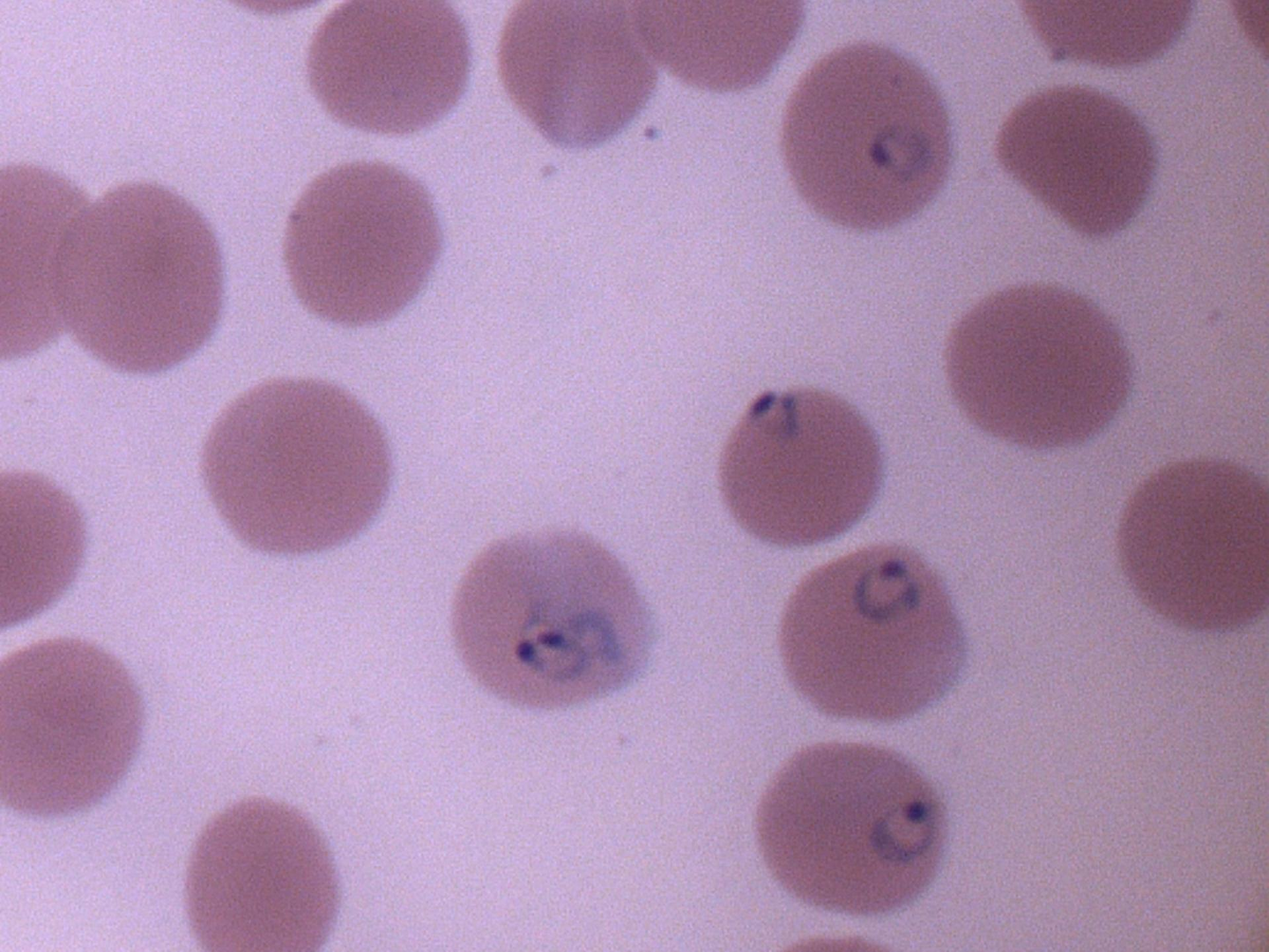Infected: (454, 523, 661, 720), (756, 734, 943, 926), (782, 40, 962, 234), (784, 538, 963, 729), (716, 382, 883, 547)
Uninfected: (200, 380, 389, 566), (55, 181, 222, 379), (947, 287, 1134, 451), (1110, 454, 1269, 635), (278, 166, 442, 332), (0, 646, 147, 826), (996, 82, 1160, 237), (500, 0, 659, 154), (178, 805, 339, 952), (315, 0, 469, 132)
